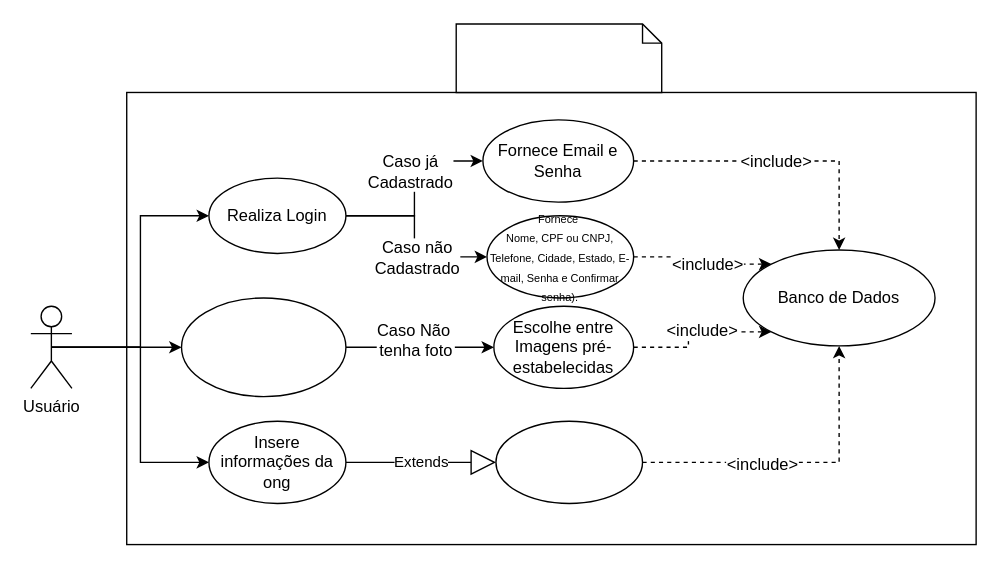
This 1000x569 diagram has some shape labels left out. The centre of each missing label's shape, as x and y in pixels:
Caso de Uso - 02 Cadastro da Ong: (x=558, y=57)
Políticas de Privacidade: (x=569, y=461)
Realiza Upload de foto/Logomarca da Ong: (x=263, y=347)
